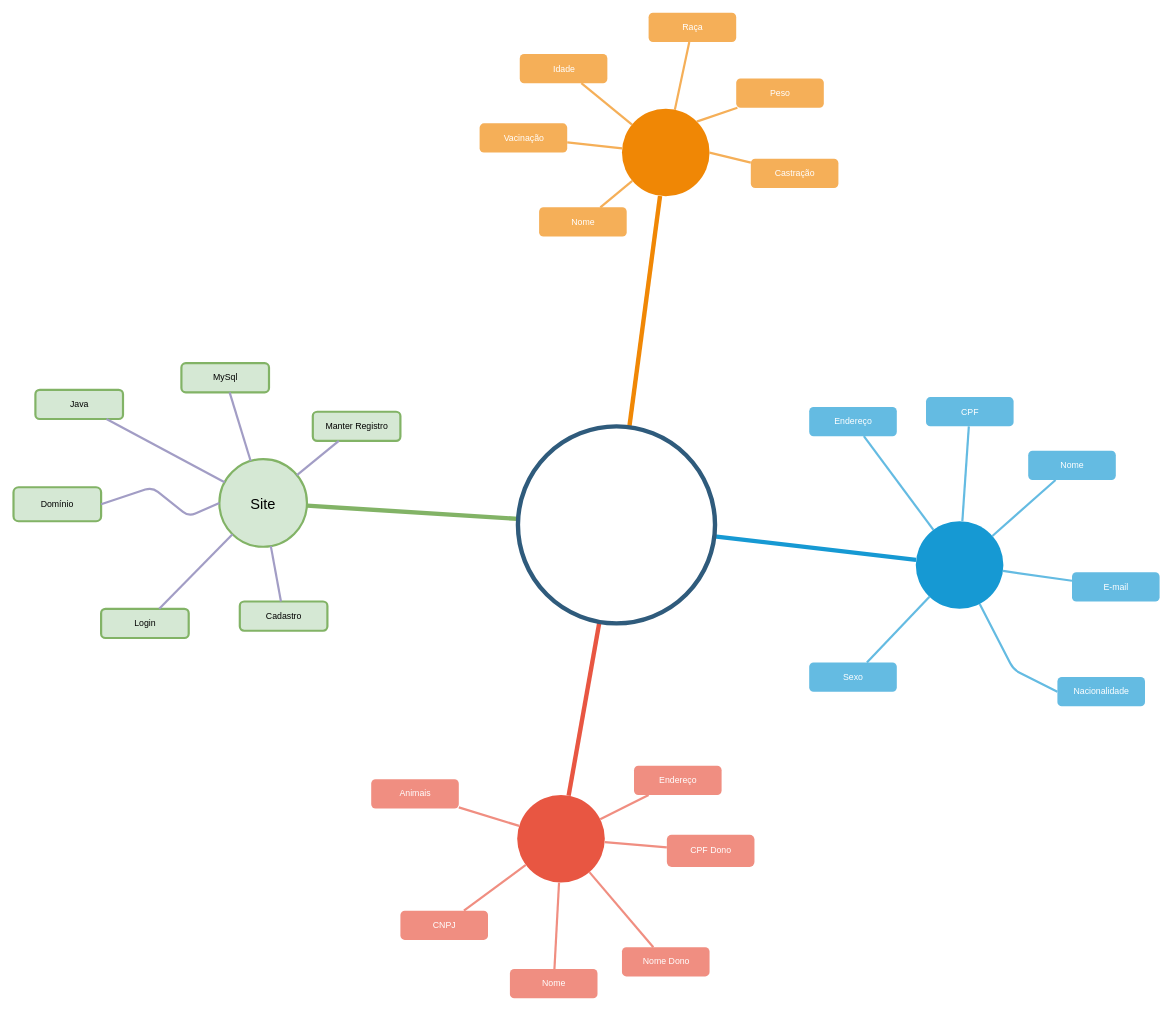
Some shapes in this 1172 by 1010 pixel diagram are drawn without their labels. The shapes that lost their labels are listed below. From the top down, each one's centre as x and y in pixels, then its label:
At pixel 665 152: "Animal".
At pixel 616 524: "Adoção de animais".
At pixel 959 564: "Cliente".
At pixel 560 838: "Instituição".
